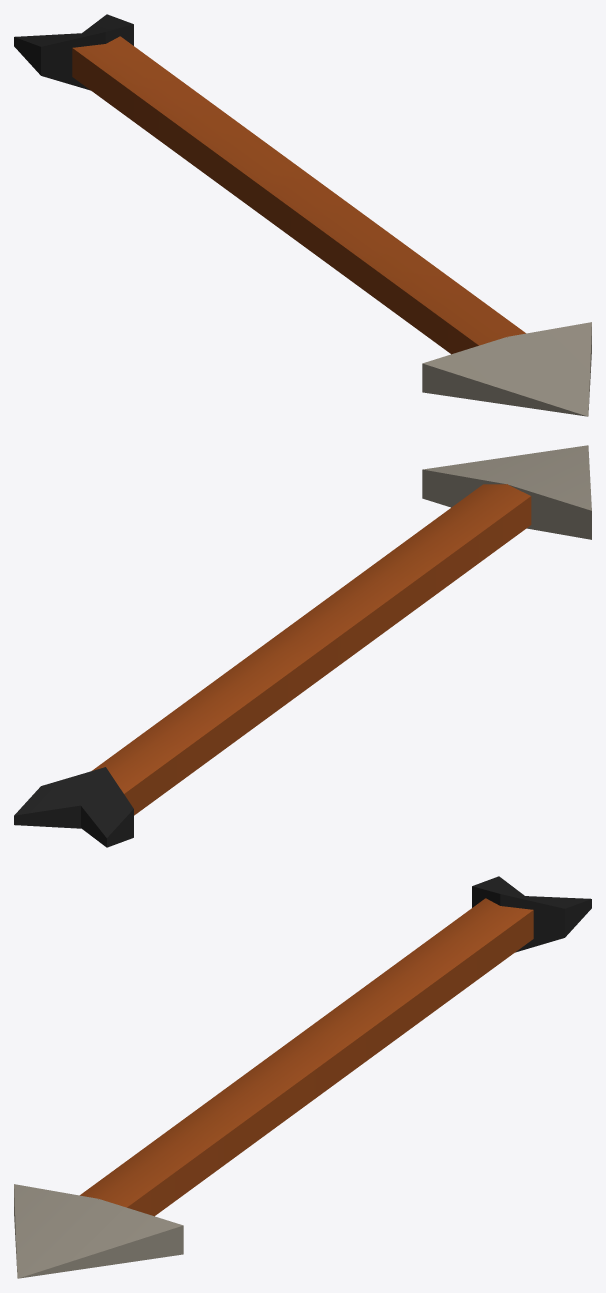
Rendered from arrow1.fbx.
3 renders of one model, top to bottom at view 1: azimuth 30°, elevation 25°; view 2: azimuth 150°, elevation 25°; view 3: azimuth 330°, elevation 25°, orthographic.
Parts seen in each view (by area): view 1: arrow1; view 2: arrow1; view 3: arrow1.
Part boxes in pixels (left/top/right/bottom): arrow1: left=14, top=14, right=591, bottom=416; arrow1: left=14, top=445, right=591, bottom=847; arrow1: left=14, top=876, right=591, bottom=1278.
Bounding box in the file's own units: 0.4895 × 0.174 × 2.64.
Materials: 1 (1 with a texture image).
